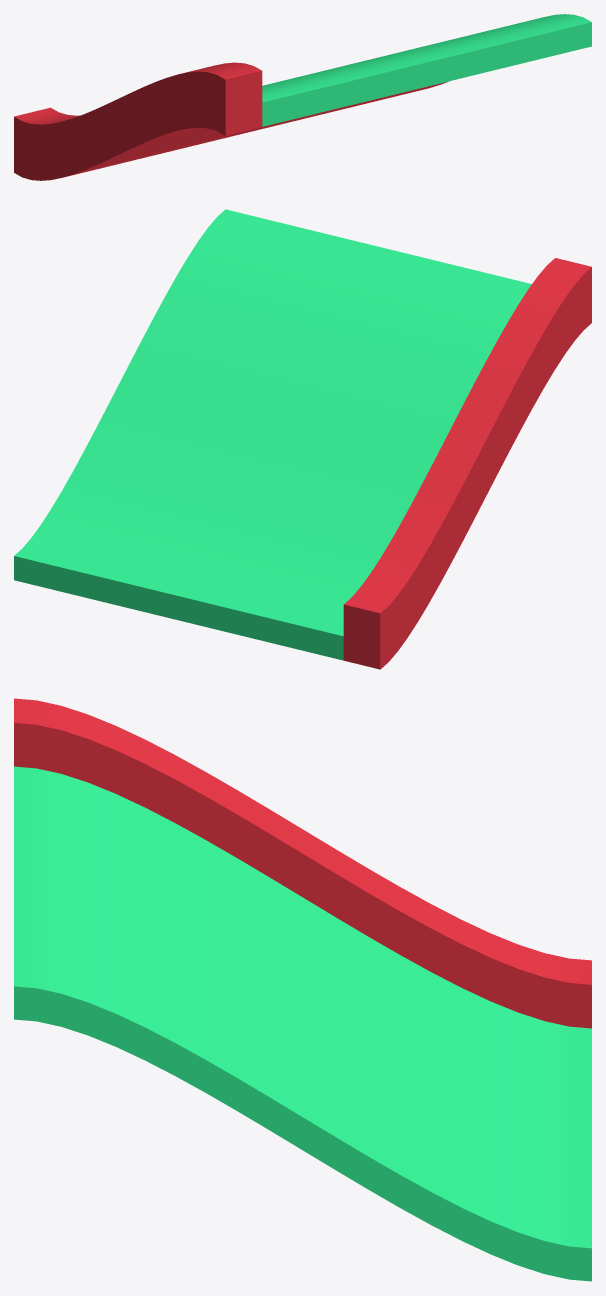
Rendered from rampSide.dae.
3 renders of one model, top to bottom at view 1: azimuth 30°, elevation 25°; view 2: azimuth 150°, elevation 25°; view 3: azimuth 270°, elevation 25°, orthographic. The views are drawn at different scales.
Parts seen in each view (by area): view 1: rampSide; view 2: rampSide; view 3: rampSide.
Part boxes in pixels (bbox=[...]): rampSide: bbox=[14, 14, 591, 180]; rampSide: bbox=[14, 209, 591, 669]; rampSide: bbox=[14, 698, 591, 1281].
Size of the model in its own units: 0.9999 by 0.6467 by 0.9999.
